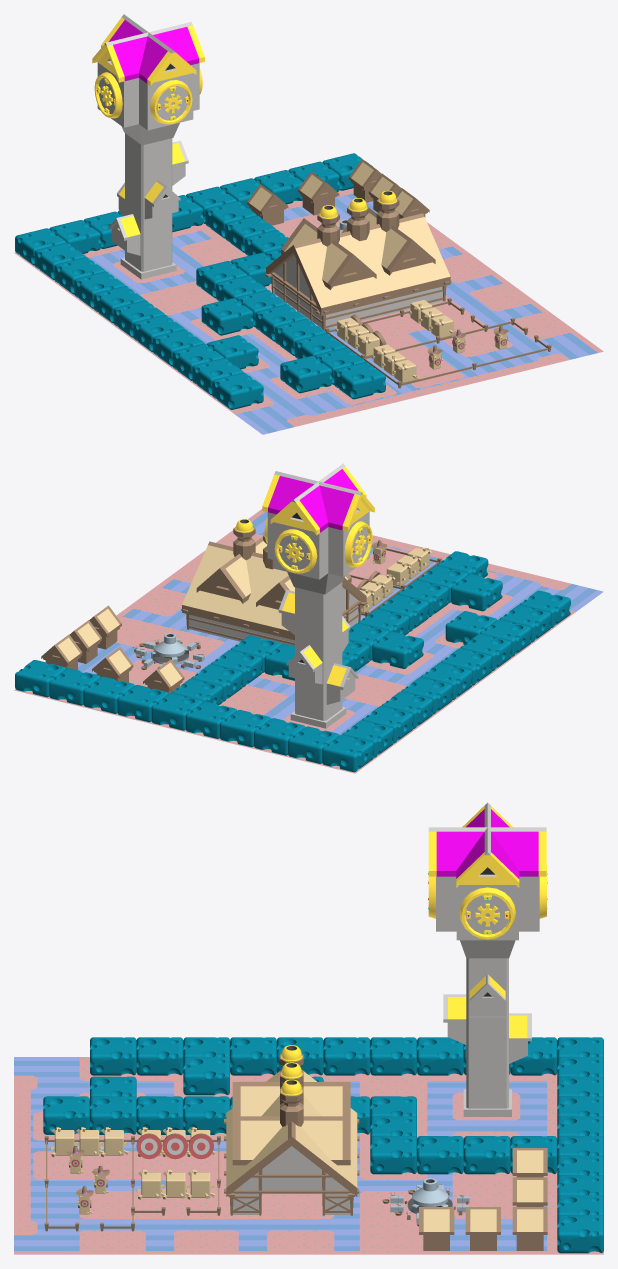
File: palace_diorama5.fbx
3 renders of one model, top to bottom at view 1: azimuth 30°, elevation 25°; view 2: azimuth 150°, elevation 25°; view 3: azimuth 270°, elevation 25°, orthographic. The views are drawn at different scales.
Visible parts, largest first — view 1: vegetation, floor, clocktower_structure, structure_wooden, outhouses, hay_bales, fences; view 2: vegetation, floor, clocktower_structure, structure_wooden, outhouses, hay_bales, forge; view 3: floor, vegetation, clocktower_structure, structure_wooden, outhouses, hay_bales, hay_targets, forge, fences.
Boxes of the visible parts, x1,y1,x2,y2 form: vegetation: [15, 153, 385, 409]; floor: [14, 188, 603, 434]; clocktower_structure: [92, 14, 204, 279]; structure_wooden: [265, 190, 451, 330]; outhouses: [247, 159, 429, 225]; hay_bales: [335, 300, 453, 383]; fences: [325, 298, 551, 388]; vegetation: [15, 551, 570, 772]; floor: [14, 509, 603, 773]; clocktower_structure: [262, 463, 374, 728]; structure_wooden: [181, 519, 367, 645]; outhouses: [41, 605, 184, 693]; hay_bales: [359, 547, 431, 613]; forge: [133, 633, 204, 669]; floor: [14, 1057, 603, 1254]; vegetation: [43, 1037, 603, 1253]; clocktower_structure: [428, 802, 547, 1116]; structure_wooden: [224, 1045, 359, 1215]; outhouses: [419, 1148, 547, 1250]; hay_bales: [50, 1127, 215, 1199]; hay_targets: [136, 1133, 213, 1159]; forge: [382, 1178, 469, 1226]; fences: [44, 1136, 220, 1231].
Size of the model in its own units: 92.34 by 60.97 by 117.
20 materials, 1 textured.
